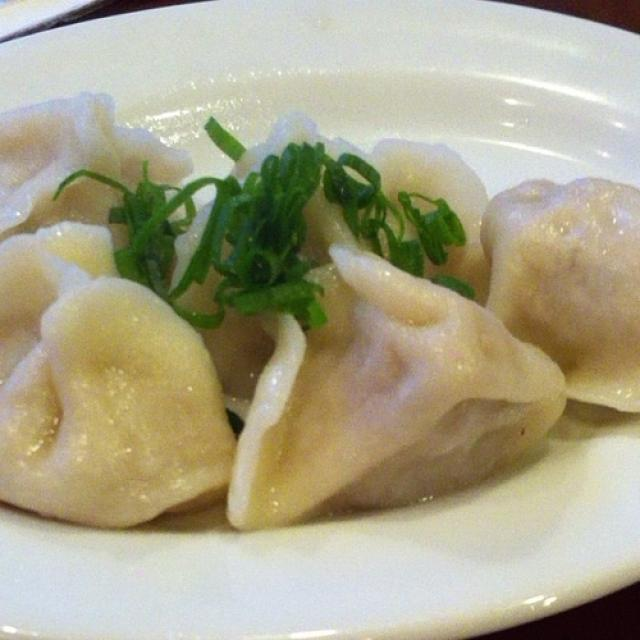带馅早点: (8, 0, 631, 613)
